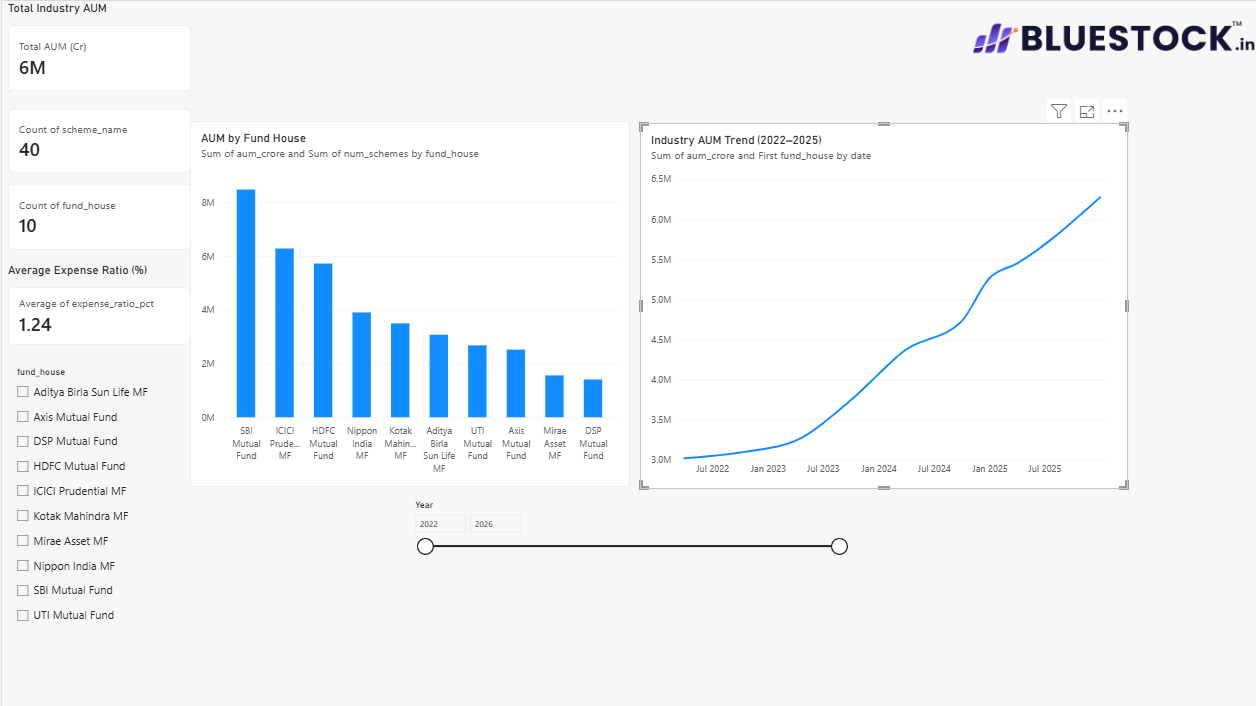

The page's visual inventory and layout, read from the dashboard file:
{"tool":"powerbi","page":{"name":"Industry Overview","canvas":[1920,1080],"ordinal":0},"visuals":[{"type":"cardVisual","title":"Total Industry AUM","fields":{"Data":["aum_by_fund_house_cleaned.Total AUM (Cr)"]},"box":[9.6,0,280.2,138.5],"z":0},{"type":"clusteredColumnChart","title":"AUM by Fund House","fields":{"Category":["aum_by_fund_house_cleaned.fund_house"],"Y":["Sum(aum_by_fund_house_cleaned.aum_crore)"]},"box":[302,0,672.6,560.2],"z":1000},{"type":"slicer","fields":{"Values":["aum_by_fund_house_cleaned.fund_house"]},"box":[14.6,560.2,275.4,406],"z":2000},{"type":"slicer","fields":{"Values":["dim_date.Year"]},"box":[302,579.2,673,220],"z":3000},{"type":"cardVisual","fields":{"Data":["Count(fund_master_cleaned.fund_house)"]},"box":[9.6,280.2,280.2,101.9],"z":4000},{"type":"cardVisual","fields":{"Data":["Count(fund_master_cleaned.scheme_name)"]},"box":[9.6,165.6,280.2,97.1],"z":5000},{"type":"cardVisual","title":"Average Expense Ratio (%)","fields":{"Data":["Avg(fund_master_cleaned.expense_ratio_pct)"]},"box":[9.6,401.2,280.2,125.8],"z":6000},{"type":"lineChart","title":"Industry AUM Trend (2022–2025)","fields":{"Category":["aum_by_fund_house_cleaned.date"],"Y":["Sum(aum_by_fund_house_cleaned.aum_crore)"]},"box":[1063.6,0,747,560.2],"z":7000}]}

Visuals, with their boxes in screenshot pixels (x1, y1, x2, y2), scaled from the page's 1920x1080 canvas onto the 1256x706 screenshot:
"Total Industry AUM" cardVisual: locate(6, 0, 190, 91)
"AUM by Fund House" clusteredColumnChart: locate(198, 0, 638, 366)
slicer - aum_by_fund_house_cleaned.fund_house: locate(10, 366, 190, 632)
slicer - dim_date.Year: locate(198, 379, 638, 522)
cardVisual - Count(fund_master_cleaned.fund_house): locate(6, 183, 190, 250)
cardVisual - Count(fund_master_cleaned.scheme_name): locate(6, 108, 190, 172)
"Average Expense Ratio (%)" cardVisual: locate(6, 262, 190, 345)
"Industry AUM Trend (2022–2025)" lineChart: locate(696, 0, 1184, 366)
